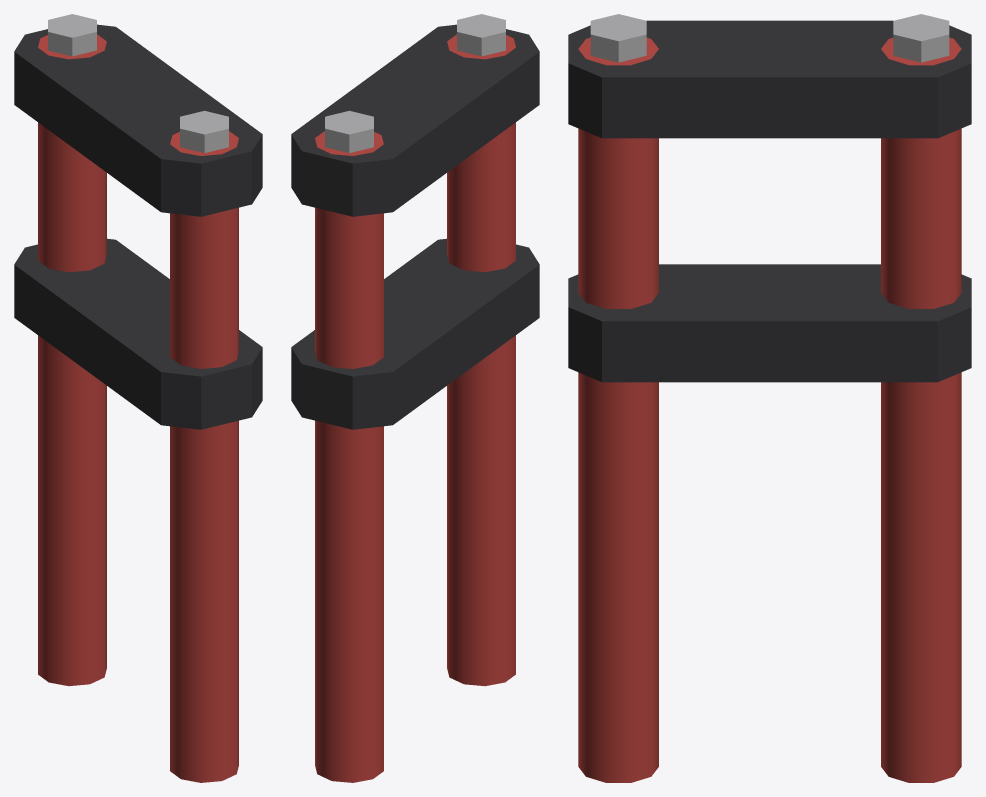
File: scrambler_gaiter_long_upper_lod1.glb
3 views of the same model, side by side, from view 1: azimuth 30°, elevation 25°; view 2: azimuth 150°, elevation 25°; view 3: azimuth 270°, elevation 25° (orthographic). The views are drawn at different scales.
Visible parts, largest first — view 1: scrambler_gaiter_long_upper_lod1; view 2: scrambler_gaiter_long_upper_lod1; view 3: scrambler_gaiter_long_upper_lod1.
Boxes of the visible parts, x1,y1,x2,y2 form: scrambler_gaiter_long_upper_lod1: [14, 14, 262, 782]; scrambler_gaiter_long_upper_lod1: [291, 14, 539, 782]; scrambler_gaiter_long_upper_lod1: [568, 14, 971, 782].
Size of the model in its own units: 0.08 by 0.485 by 0.24.
